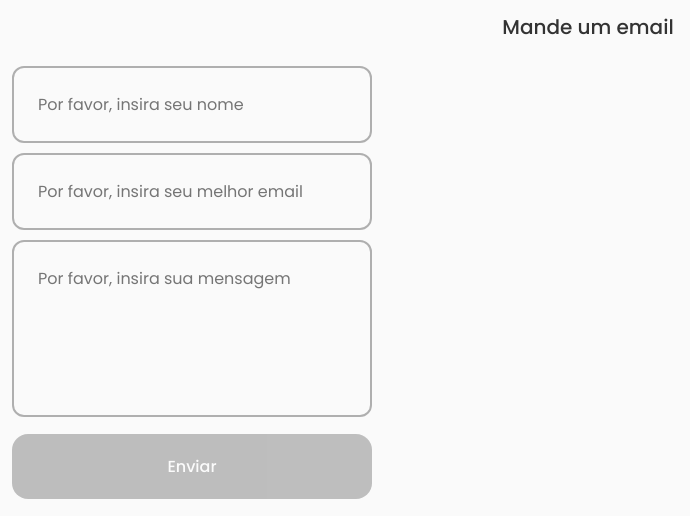
Scenario: keeps the form available when sending fails
Step 1. Type "Felipe" into the field with placeholder "Por favor, insira seu nome" → coordinates (192, 104), box x1=12 y1=66 x2=372 y2=143
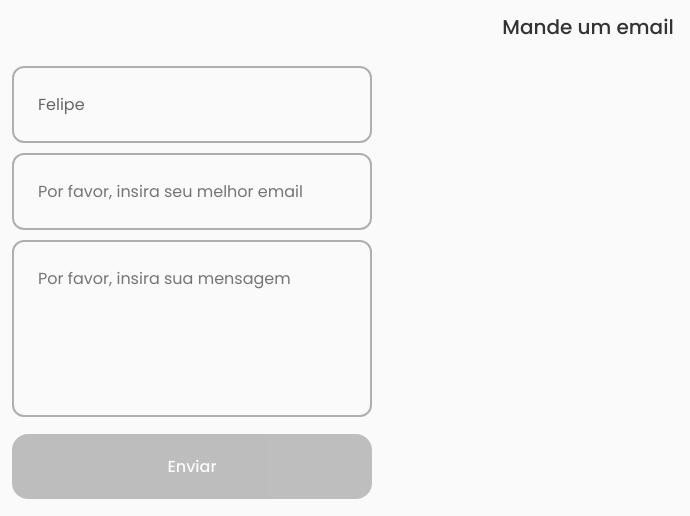
Step 2. Type "felipe@example.com" into the field with placeholder "Por favor, insira seu melhor email" → coordinates (192, 192), box x1=12 y1=153 x2=372 y2=230
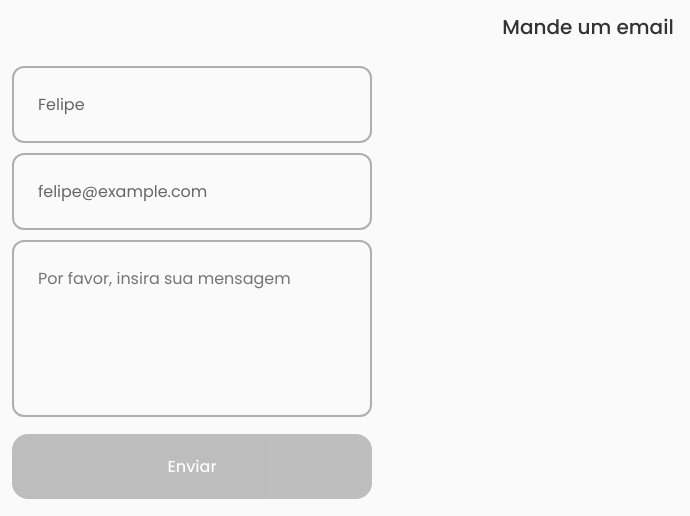
Step 3. Type "Olá!" into the text box with placeholder "Por favor, insira sua mensagem" → coordinates (192, 328), box x1=12 y1=240 x2=372 y2=417
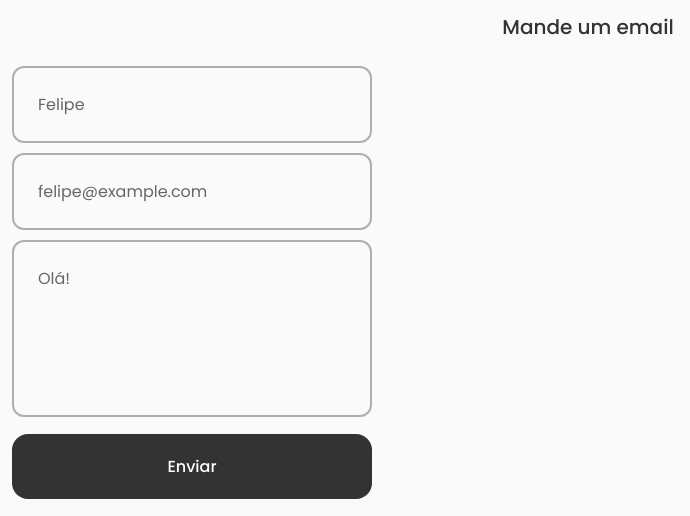
Step 4. Click the button → coordinates (192, 466), box x1=12 y1=434 x2=372 y2=499
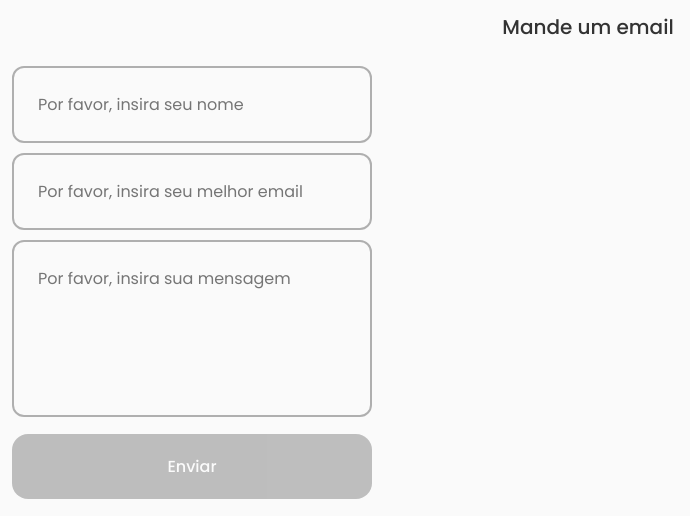
Now the button is disabled, box x1=12 y1=434 x2=372 y2=499
